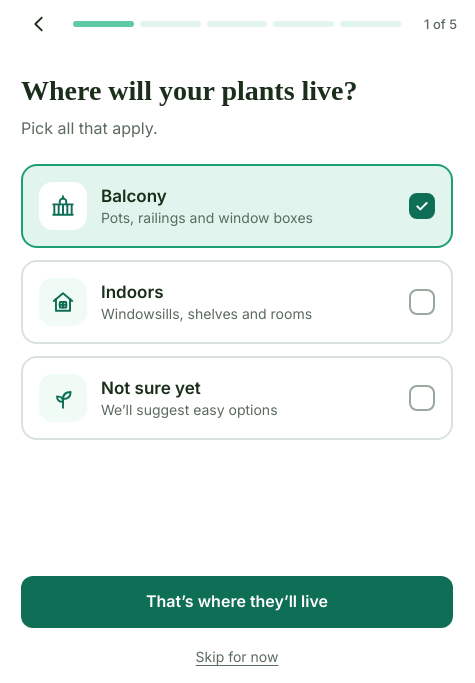
Test: Step 2 — where will your plants live? › asks for at least one place when nothing is selected
The image size is (475, 683).
Expected: the heading "Where will your plants live?" is shown, [21, 75, 358, 106]
Step 1. Click the button "Balcony Pots, railings and window boxes" → (237, 206), box [21, 164, 453, 248]
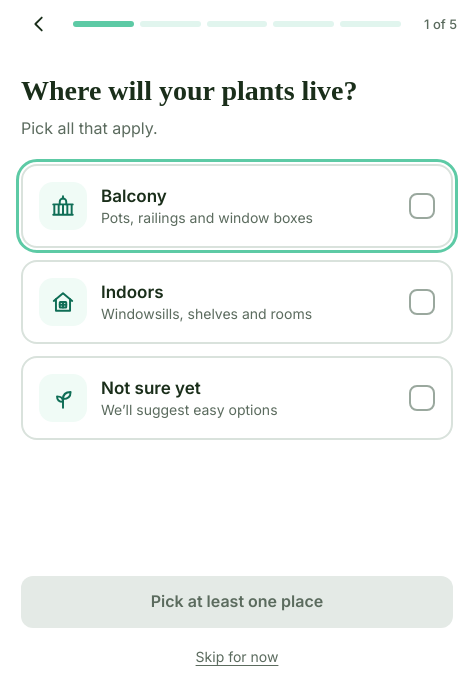
Result: the button "Pick at least one place" is disabled at [21, 576, 453, 628]
Result: the button "That’s where they’ll live" is gone
